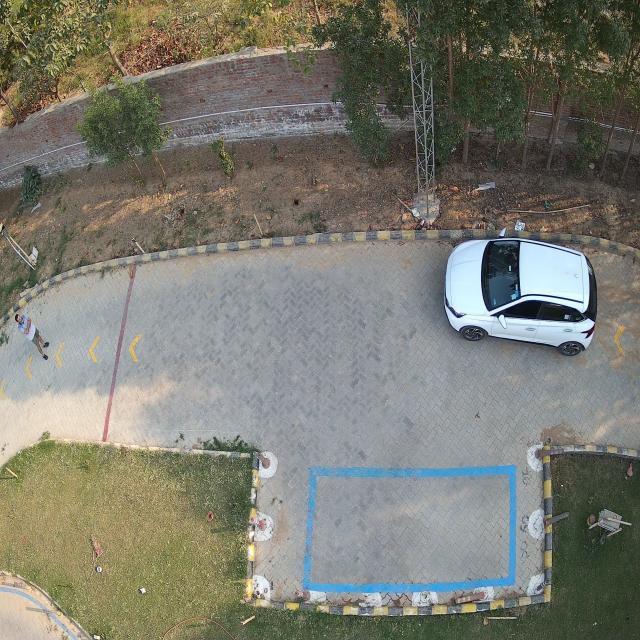car: (444, 240, 598, 357)
